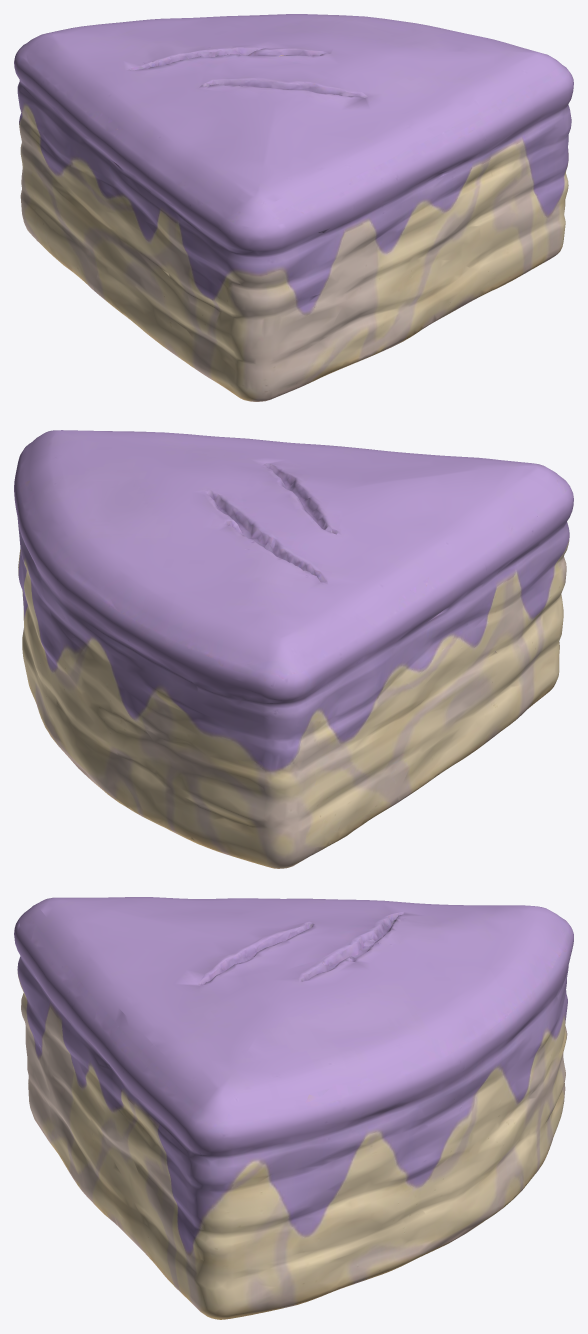
Rendered from scone--blueberry-fresh.glb.
3 renders of one model, top to bottom at view 1: azimuth 30°, elevation 25°; view 2: azimuth 150°, elevation 25°; view 3: azimuth 270°, elevation 25°, orthographic. The views are drawn at different scales.
Visible parts, largest first — view 1: scone_blueberry-fresh; view 2: scone_blueberry-fresh; view 3: scone_blueberry-fresh.
Part boxes in pixels (x1,y1,x2,y2): scone_blueberry-fresh: (14, 14, 573, 401); scone_blueberry-fresh: (14, 430, 573, 868); scone_blueberry-fresh: (14, 897, 573, 1319).
Size of the model in its own units: 0.9409 by 0.4689 by 0.9869.
1 material, 1 textured.
